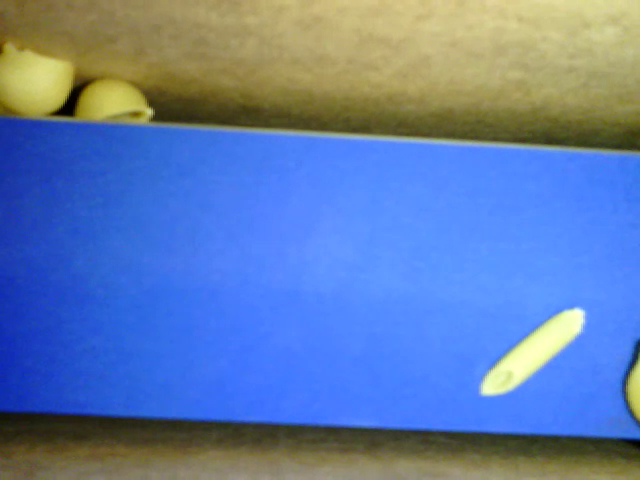penne: (480, 307, 586, 396)
shell: (1, 41, 76, 116), (76, 75, 153, 123)
